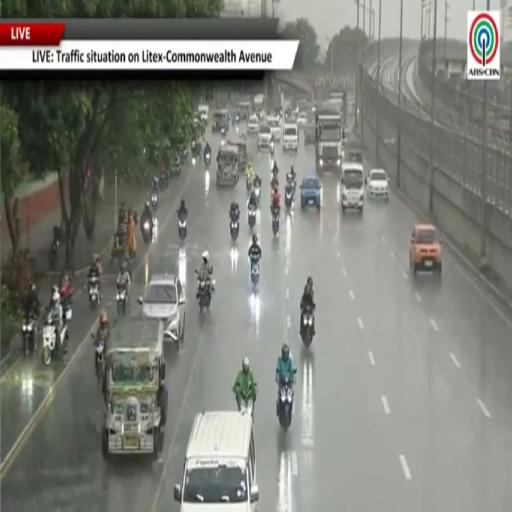car: (138, 275, 185, 342), (409, 224, 442, 275), (300, 176, 321, 209), (366, 169, 389, 199), (283, 123, 298, 152), (258, 125, 273, 150), (267, 116, 281, 141), (304, 123, 315, 146), (248, 115, 259, 133), (297, 111, 306, 126)
jeepney: (102, 317, 167, 459), (217, 144, 239, 186), (228, 138, 247, 172), (236, 102, 251, 121)
motorcycle: (196, 270, 214, 312), (279, 376, 293, 430), (42, 315, 56, 365), (22, 315, 37, 357), (300, 307, 314, 349), (48, 239, 60, 271), (111, 232, 124, 261), (88, 276, 99, 310), (96, 340, 104, 385), (239, 391, 253, 415), (117, 286, 127, 315), (141, 219, 152, 245), (250, 260, 260, 286), (158, 171, 170, 191), (286, 173, 296, 195), (285, 183, 293, 209), (230, 218, 239, 241), (179, 216, 187, 241), (272, 210, 279, 235), (192, 141, 202, 157), (151, 190, 158, 211), (248, 208, 255, 229), (246, 175, 253, 192), (204, 152, 211, 167), (271, 173, 278, 187), (255, 186, 260, 203), (221, 126, 227, 137), (270, 141, 274, 155)
truck: (315, 106, 344, 171), (254, 94, 264, 119)
